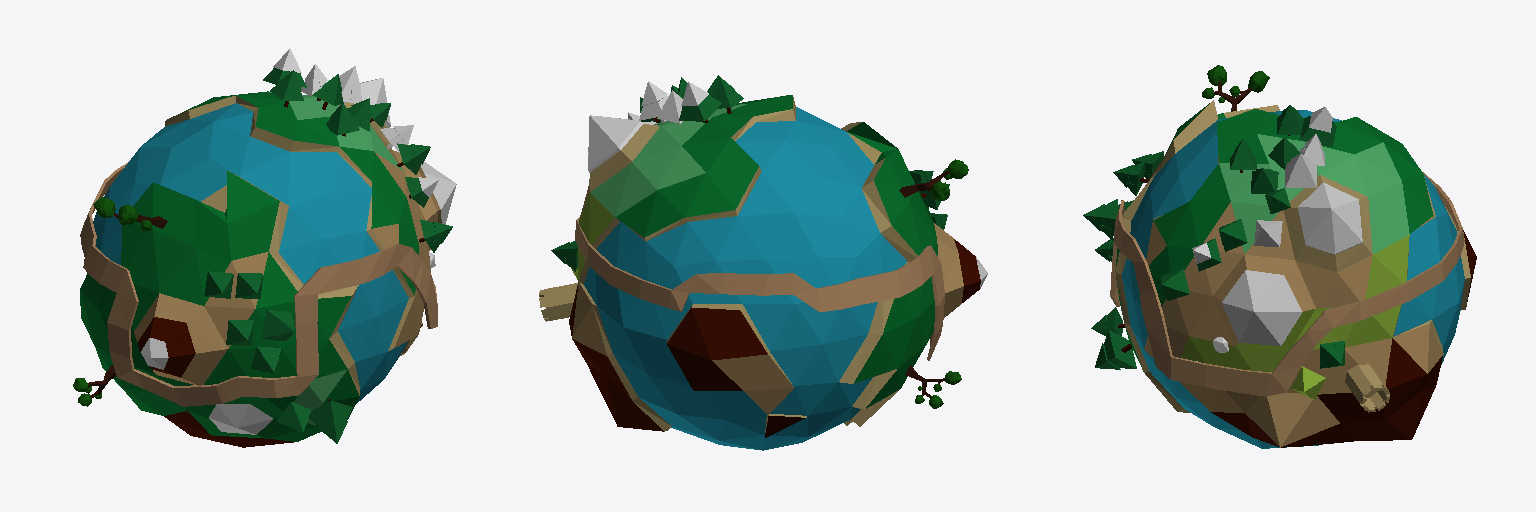
The model's file is ball.obj.
3 views of the same model, side by side, from view 1: azimuth 30°, elevation 25°; view 2: azimuth 150°, elevation 25°; view 3: azimuth 270°, elevation 25° (orthographic).
Visible parts, largest first — view 1: 棱角球_棱角球.001, 平面, 立方体.019_立方体.027, Icosphere.005, 立方体.014_立方体.022, 立方体.020_立方体.028, 立方体.002, 立方体.018_立方体.026, 立方体.017_立方体.025, Icosphere.000, 立方体, 立方体.009 (+7 smaller); view 2: 棱角球_棱角球.001, 平面, toaa, 立方体.002, Icosphere.005, Icosphere.000, 立方体.003, 立方体; view 3: 棱角球_棱角球.001, 平面, toaa, Icosphere.005, 立方体.019_立方体.027, 立方体.002, 立方体.003, 立方体.014_立方体.022, 立方体.008, 立方体.013_立方体.016, 立方体.011_立方体.014, 立方体.004 (+7 smaller).
Boxes of the visible parts, x1,y1,x2,y2 form: 棱角球_棱角球.001: [80, 78, 456, 447]; 平面: [80, 163, 437, 406]; 立方体.019_立方体.027: [309, 399, 352, 443]; Icosphere.005: [93, 197, 167, 231]; 立方体.014_立方体.022: [261, 310, 293, 340]; 立方体.020_立方体.028: [204, 271, 233, 298]; 立方体.002: [263, 49, 306, 87]; 立方体.018_立方体.026: [226, 320, 253, 345]; 立方体.017_立方体.025: [235, 273, 262, 298]; Icosphere.000: [73, 365, 115, 406]; 立方体: [270, 70, 303, 107]; 立方体.009: [397, 143, 430, 174]; 棱角球_棱角球.001: [569, 95, 987, 450]; 平面: [575, 217, 944, 360]; toaa: [539, 283, 577, 321]; 立方体.002: [679, 82, 721, 122]; Icosphere.005: [899, 159, 968, 200]; Icosphere.000: [905, 366, 961, 408]; 立方体.003: [639, 81, 668, 122]; 立方体: [712, 77, 743, 113]; 棱角球_棱角球.001: [1115, 100, 1476, 448]; 平面: [1110, 172, 1464, 396]; toaa: [1345, 364, 1389, 412]; Icosphere.005: [1202, 65, 1269, 111]; 立方体.019_立方体.027: [1095, 330, 1136, 369]; 立方体.002: [1300, 107, 1336, 147]; 立方体.003: [1285, 154, 1316, 187]; 立方体.014_立方体.022: [1083, 199, 1117, 239]; 立方体.008: [1254, 220, 1282, 246]; 立方体.013_立方体.016: [1291, 366, 1325, 399]; 立方体.011_立方体.014: [1161, 269, 1189, 300]; 立方体.004: [1251, 168, 1278, 193].
Bounding box in the file's own units: 7.39 × 6.66 × 6.71.